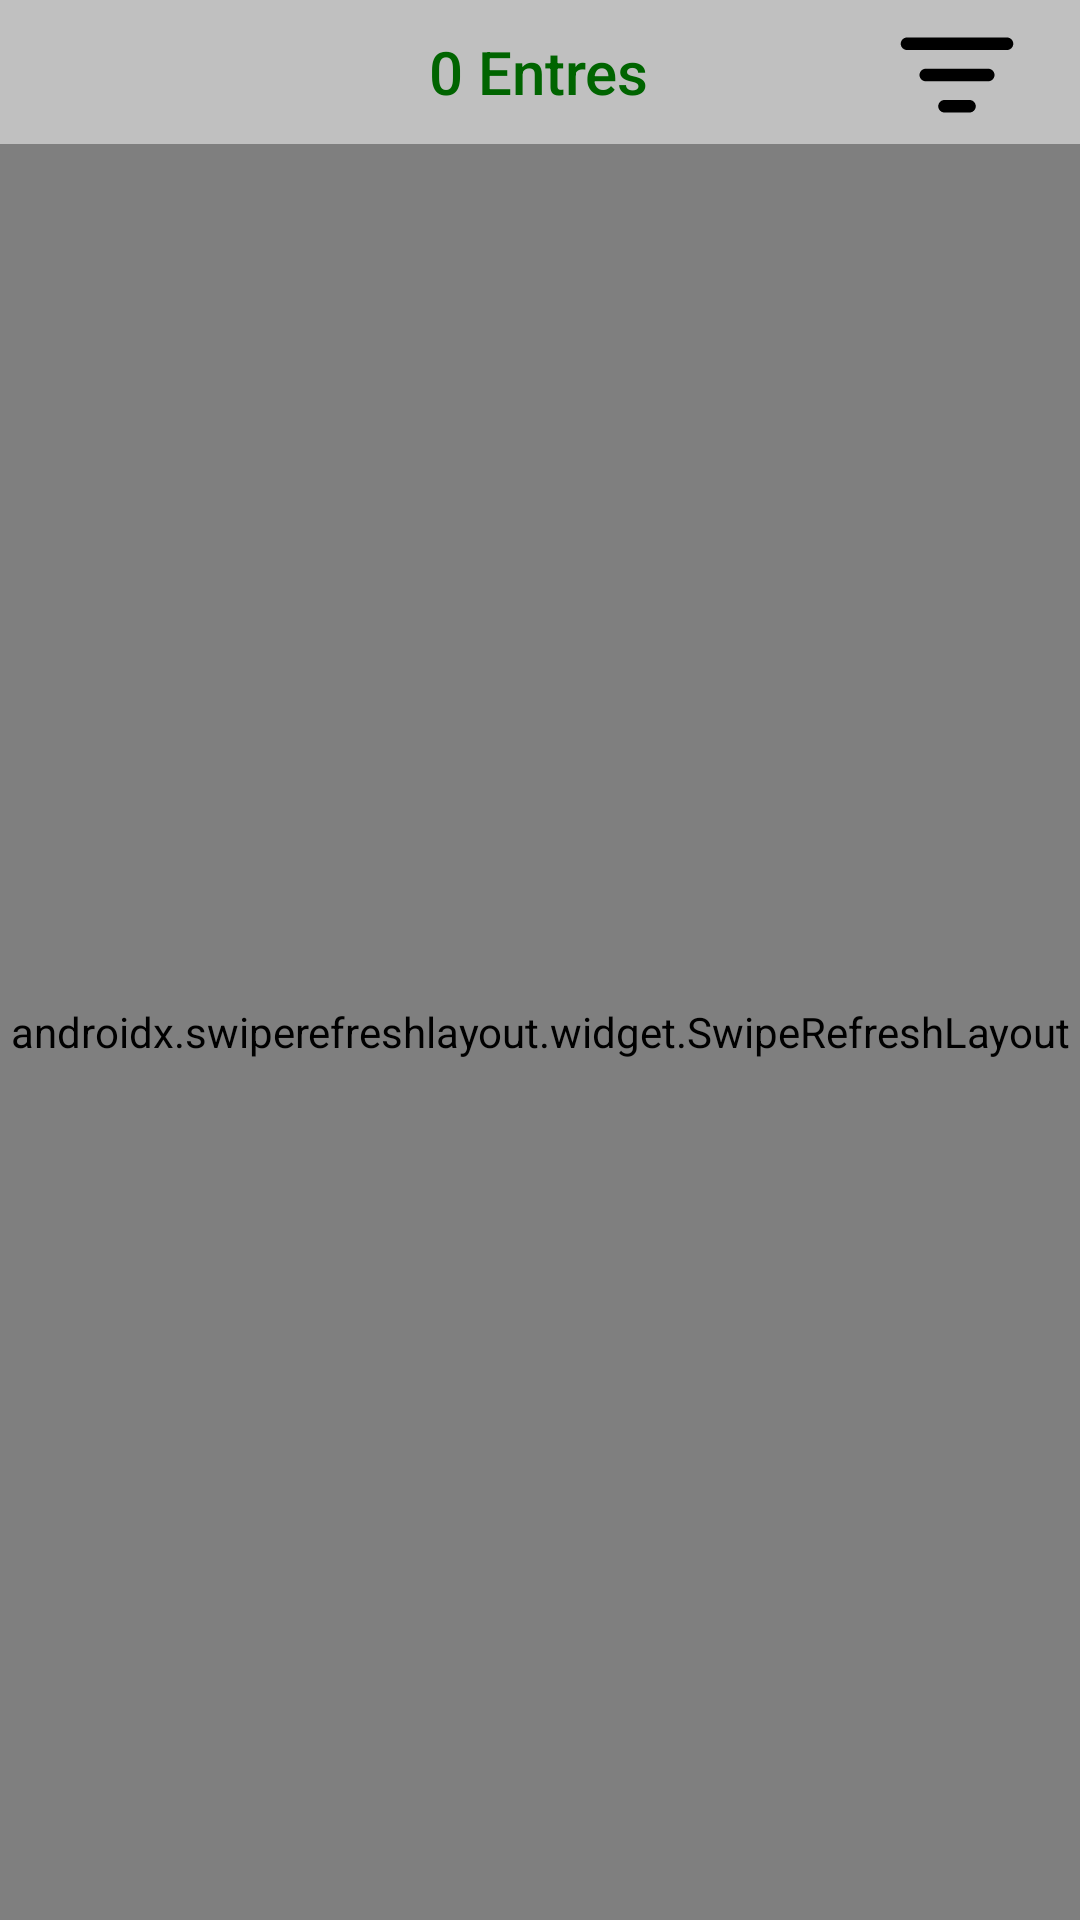

Point at icon controls on the screen. Image size 1080px x 1920px, points as (x,y).
Filter this list: (957,75)
